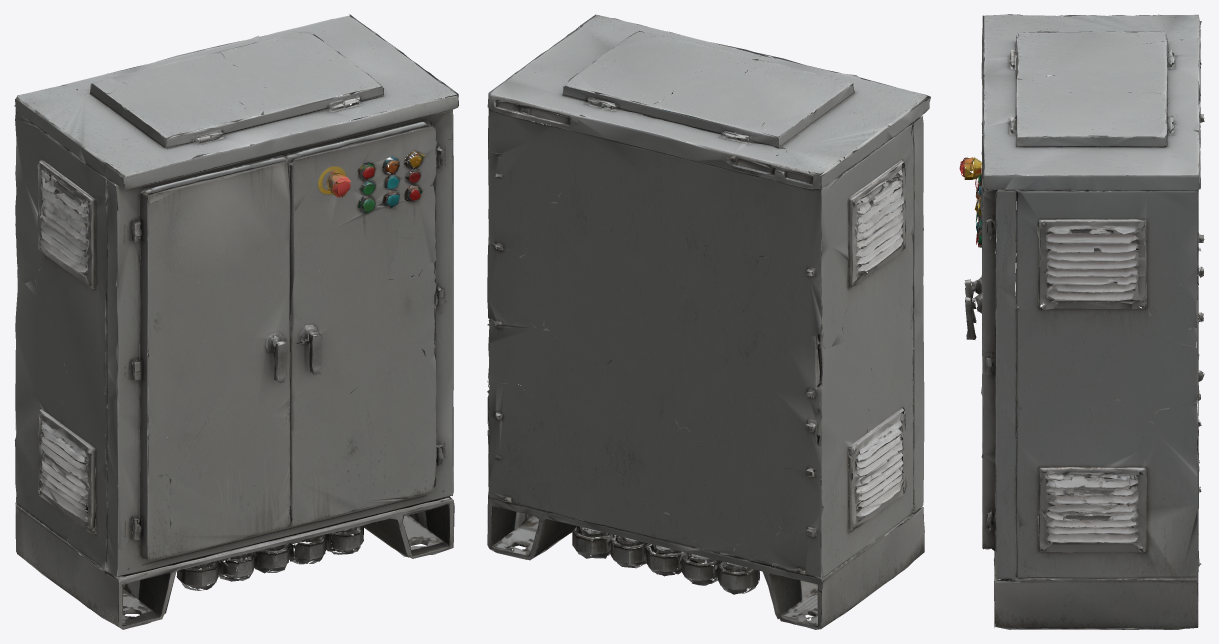
File: Props_ElectricalCabinet.fbx
3 views of the same model, side by side, from view 1: azimuth 30°, elevation 25°; view 2: azimuth 150°, elevation 25°; view 3: azimuth 270°, elevation 25° (orthographic).
Visible parts, largest first — view 1: texture_mapping; view 2: texture_mapping; view 3: texture_mapping.
Boxes of the visible parts, x1,y1,x2,y2 form: texture_mapping: (14,14,458,629); texture_mapping: (487,14,930,629); texture_mapping: (959,14,1204,629).
Size of the model in its own units: 0.7863 by 1 by 0.4758.
